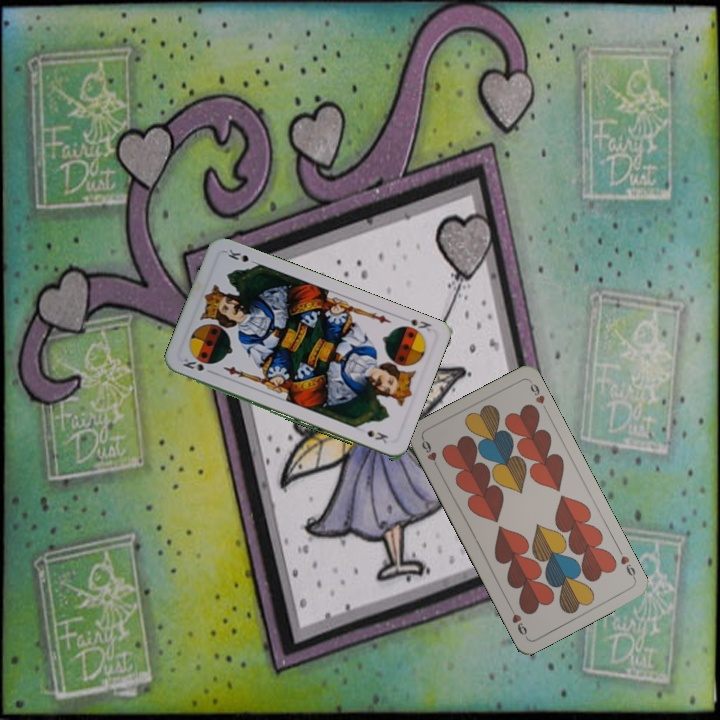H9: (417, 434, 442, 472), (614, 544, 639, 582)
SK: (397, 313, 434, 334), (179, 354, 207, 374)
